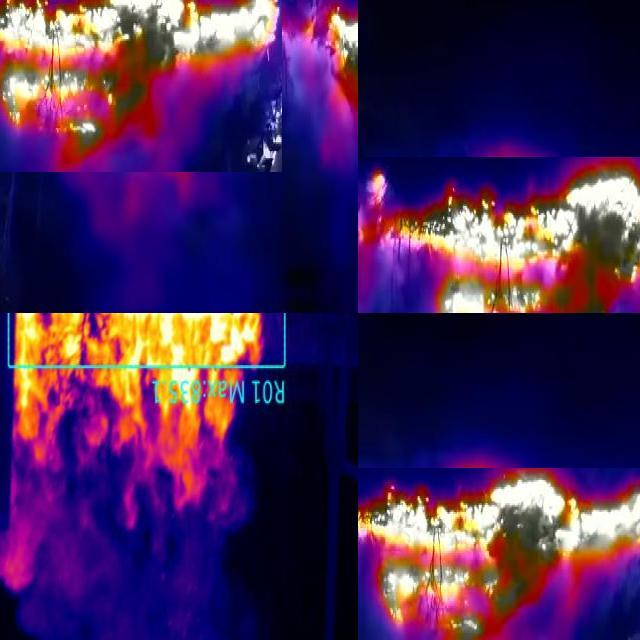fire: (1, 314, 275, 579), (359, 468, 640, 640), (1, 1, 282, 172), (359, 157, 640, 314), (296, 4, 359, 137)
